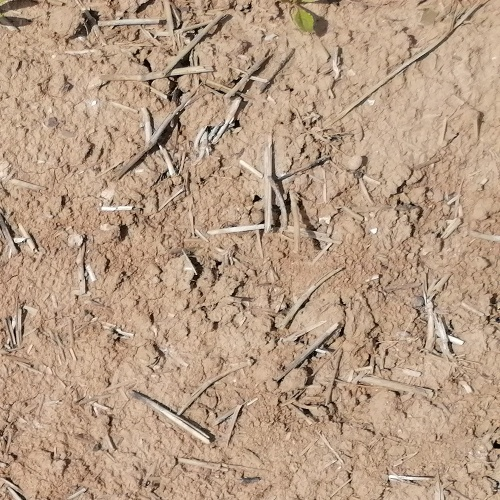beet: (284, 0, 314, 32)
